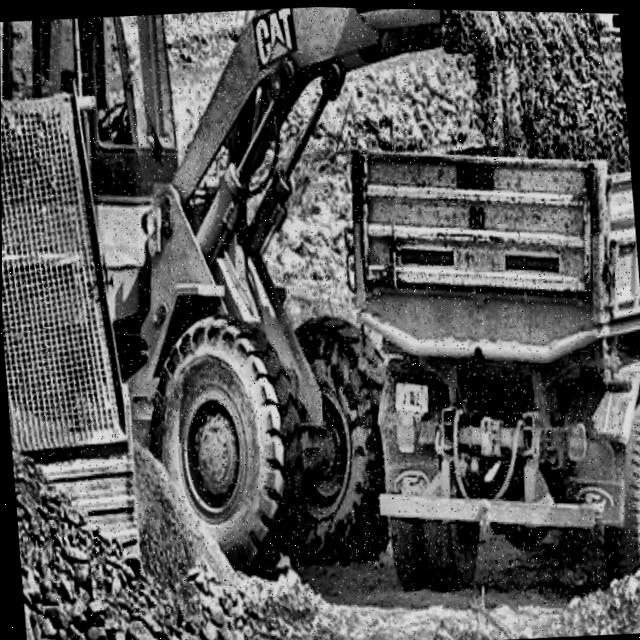dump_truck: (313, 42, 640, 581)
